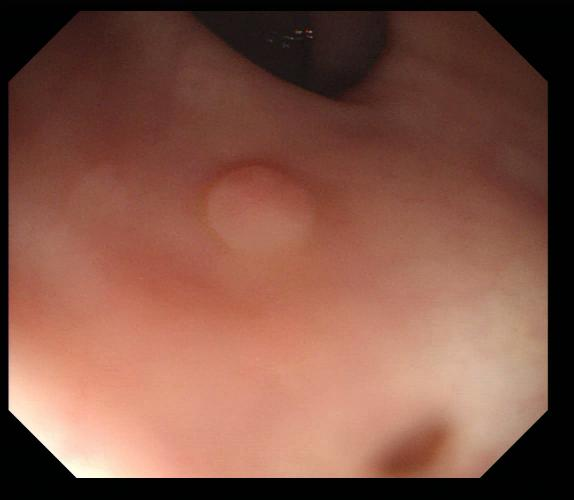polyp: (204, 162, 324, 261)
